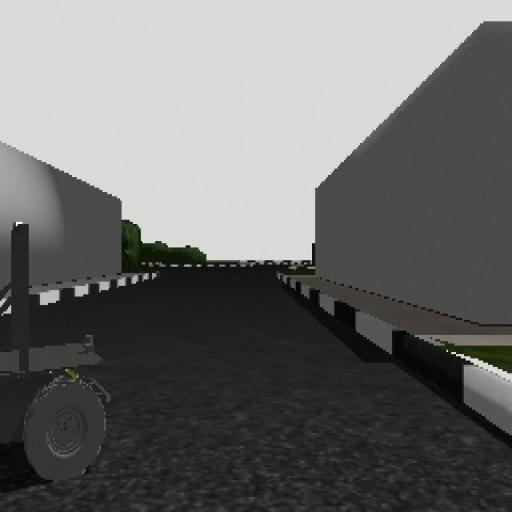huskya200: (0, 194, 115, 499)
